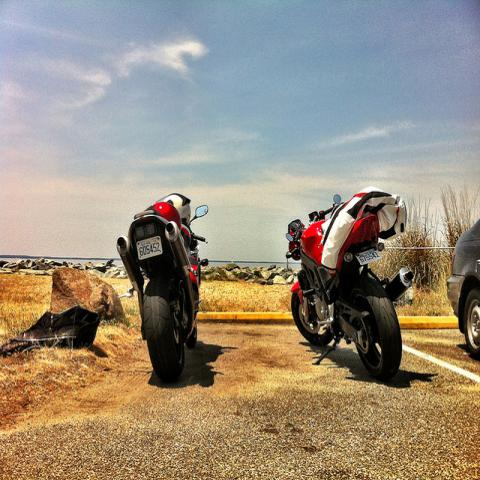car: (450, 215, 479, 361)
motorcycle: (286, 185, 412, 375), (118, 192, 210, 385)
